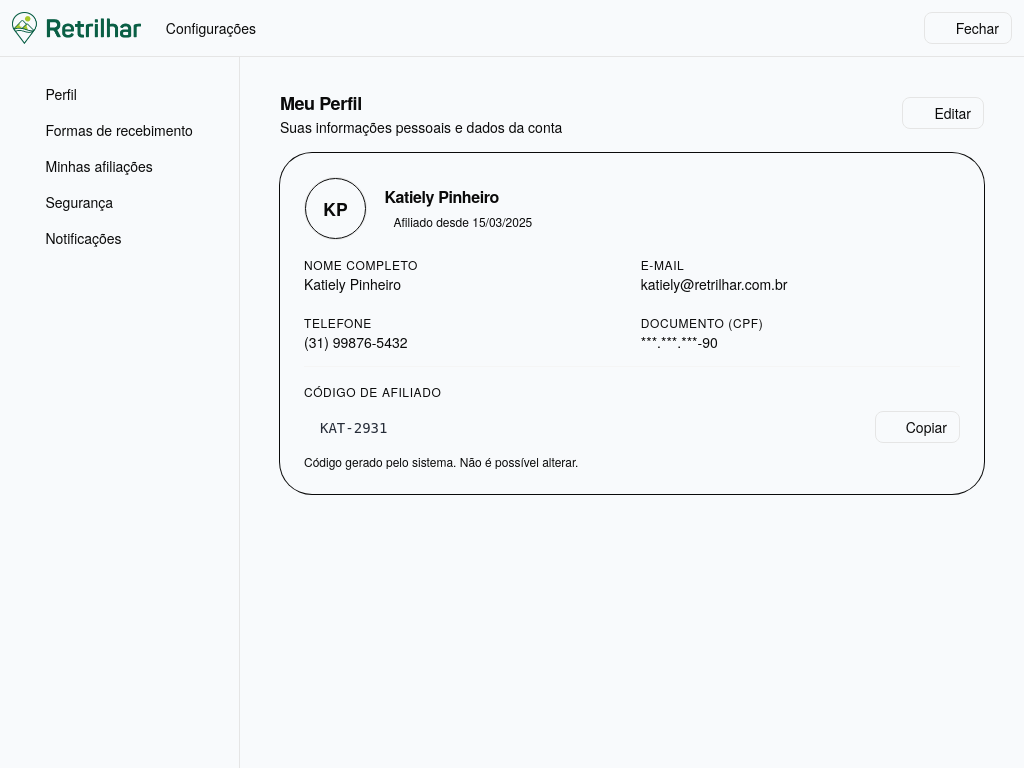
Test: ConfiguracoesPage › does not expose the unresolved organization invitation preference
The image size is (1024, 768).
Click the button "Notificações".
click(120, 238)  # box 12,221 -> 227,255
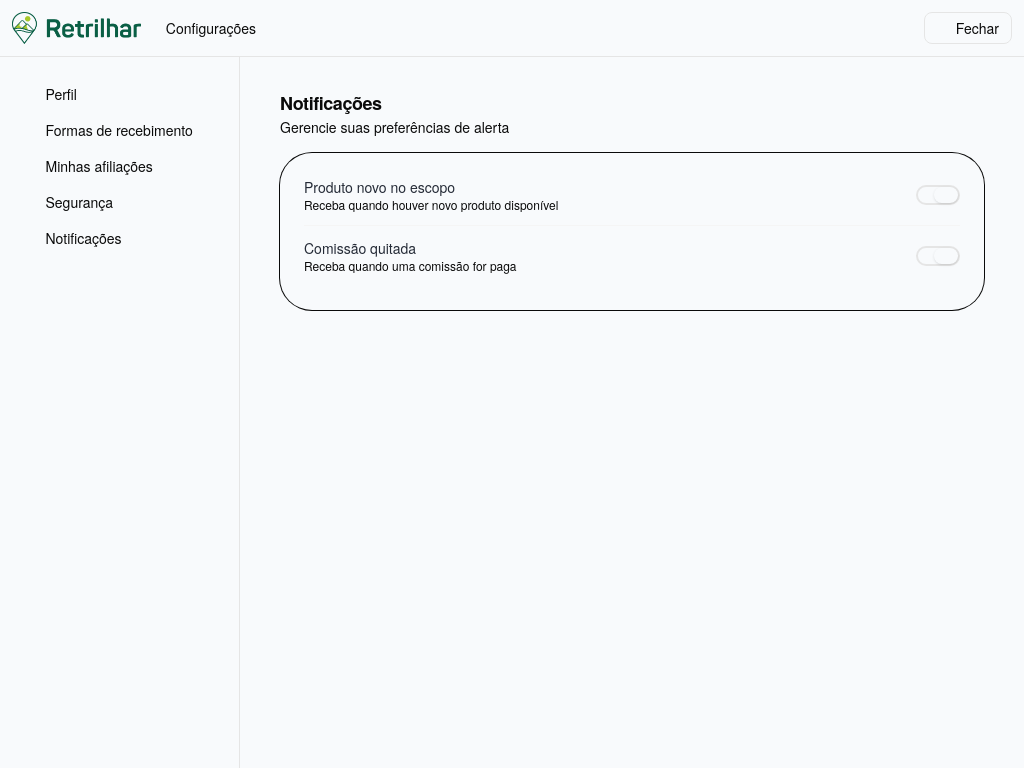
Expected: the number of switches is 2, 916,185 -> 960,205; 916,246 -> 960,266
